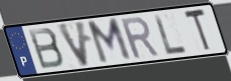B: (26, 26, 67, 71)
L: (152, 13, 189, 57)
M: (85, 16, 135, 67)
R: (118, 15, 162, 61)
T: (182, 7, 213, 54)
V: (55, 20, 92, 70)
